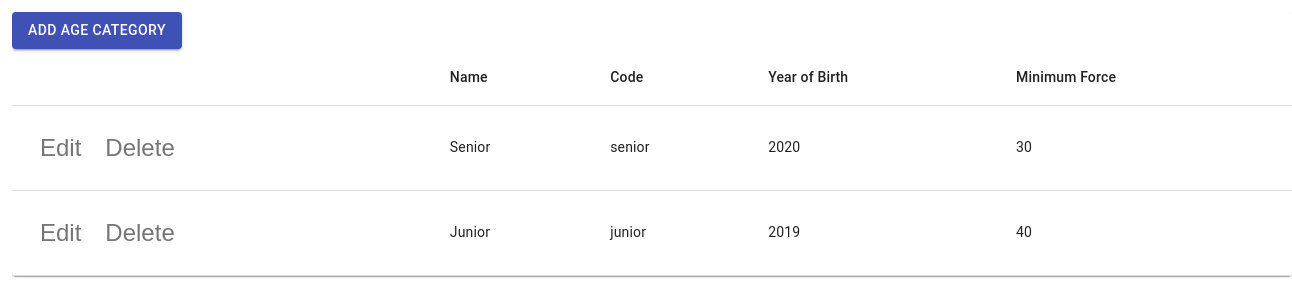
Test case: AgeCategoryList - edit and save › edit and save a record
Click the button "Edit" in the row of "2019" at (61, 232), box [28, 206, 93, 258]
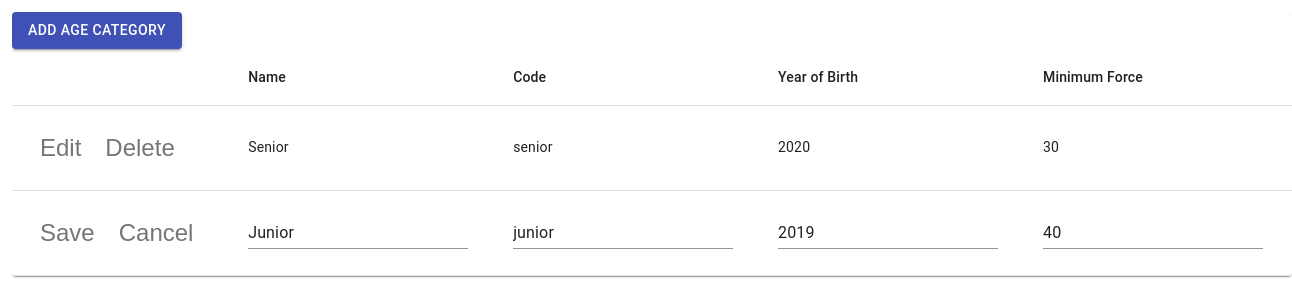
Replace the text in the 1st field with "JuniorEdited" at (358, 232), box [248, 216, 468, 248]
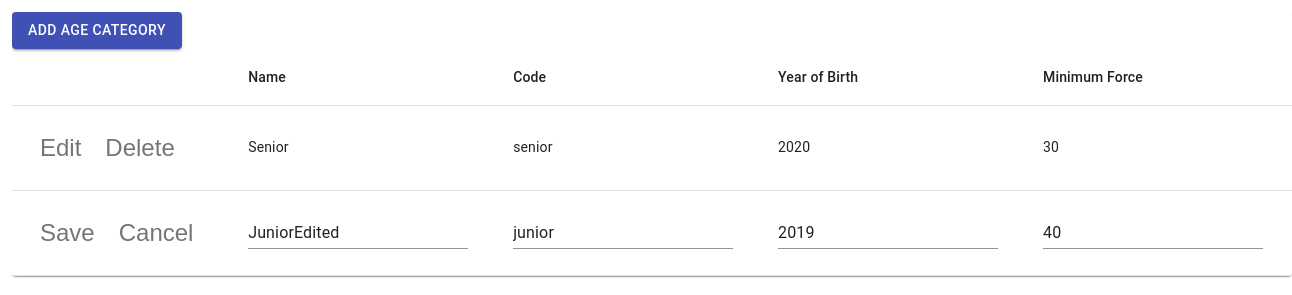
Replace the text in the 2nd field with "junior-edited" at (623, 232), box [513, 216, 733, 248]
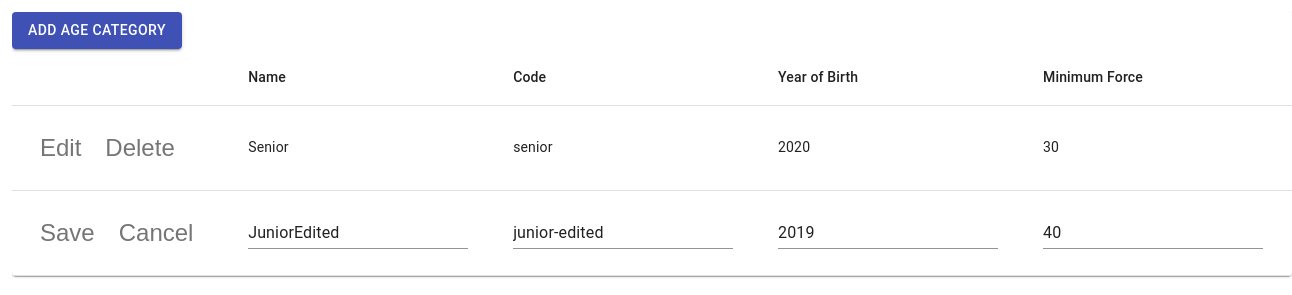
Replace the text in the 3rd field with "2025" at (888, 232), box [778, 216, 998, 248]
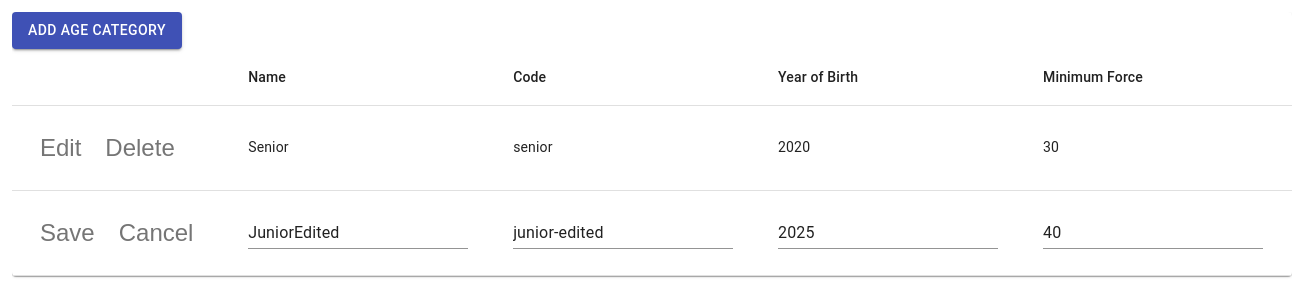
Replace the text in the 4th field with "50" at (1153, 232), box [1043, 216, 1263, 248]
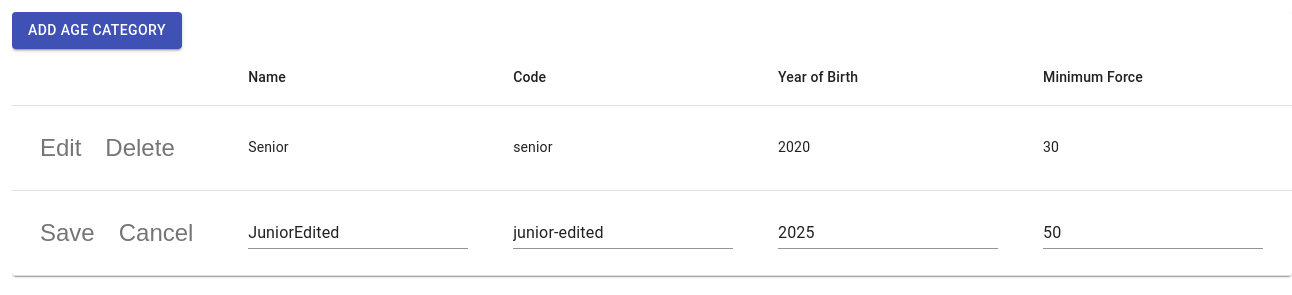
Click the button with test id "save-button-2" at (67, 232), box [28, 206, 107, 258]
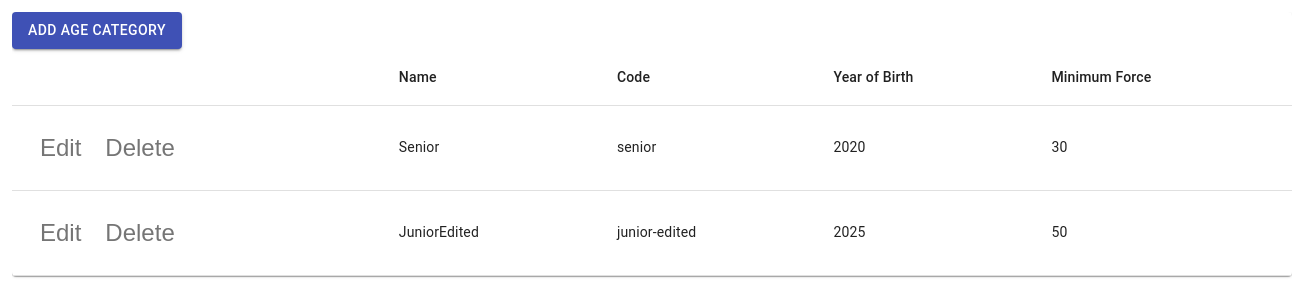
Check: the text "JuniorEdited" is shown, box [383, 190, 601, 275]
Check: the text "junior-edited" is shown, box [601, 190, 817, 275]
Check: the text "2025" is shown, box [818, 190, 1035, 275]
